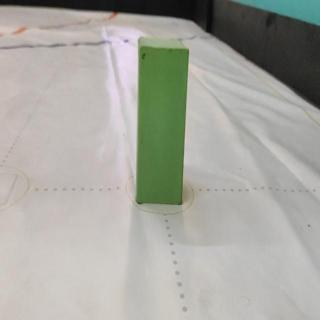greenbox: (137, 34, 188, 202)
